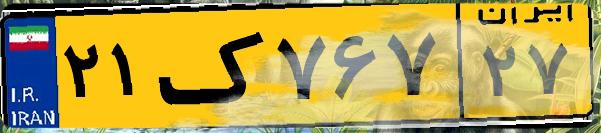1: (110, 28, 158, 98)
2: (57, 26, 110, 100), (475, 38, 525, 113)
6: (330, 28, 385, 110)
7: (270, 28, 330, 110), (385, 28, 445, 110), (525, 38, 570, 115)
ک: (158, 12, 270, 120)
